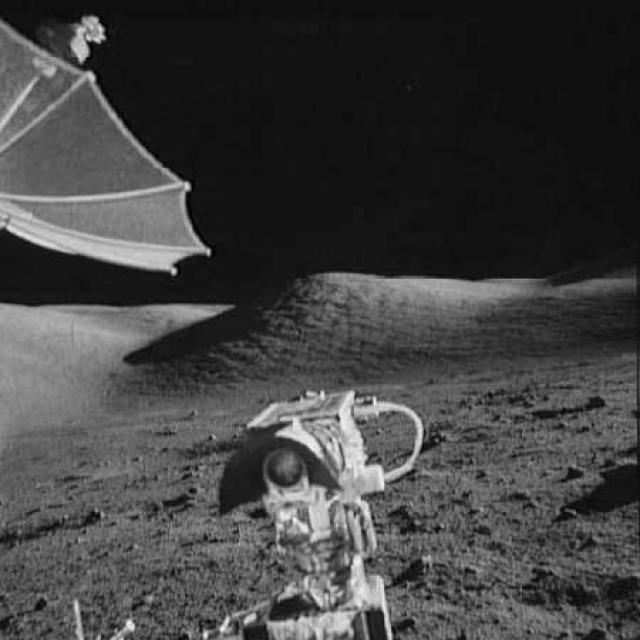artifact: (192, 372, 431, 638), (0, 2, 216, 280)
crater: (508, 393, 604, 422)
